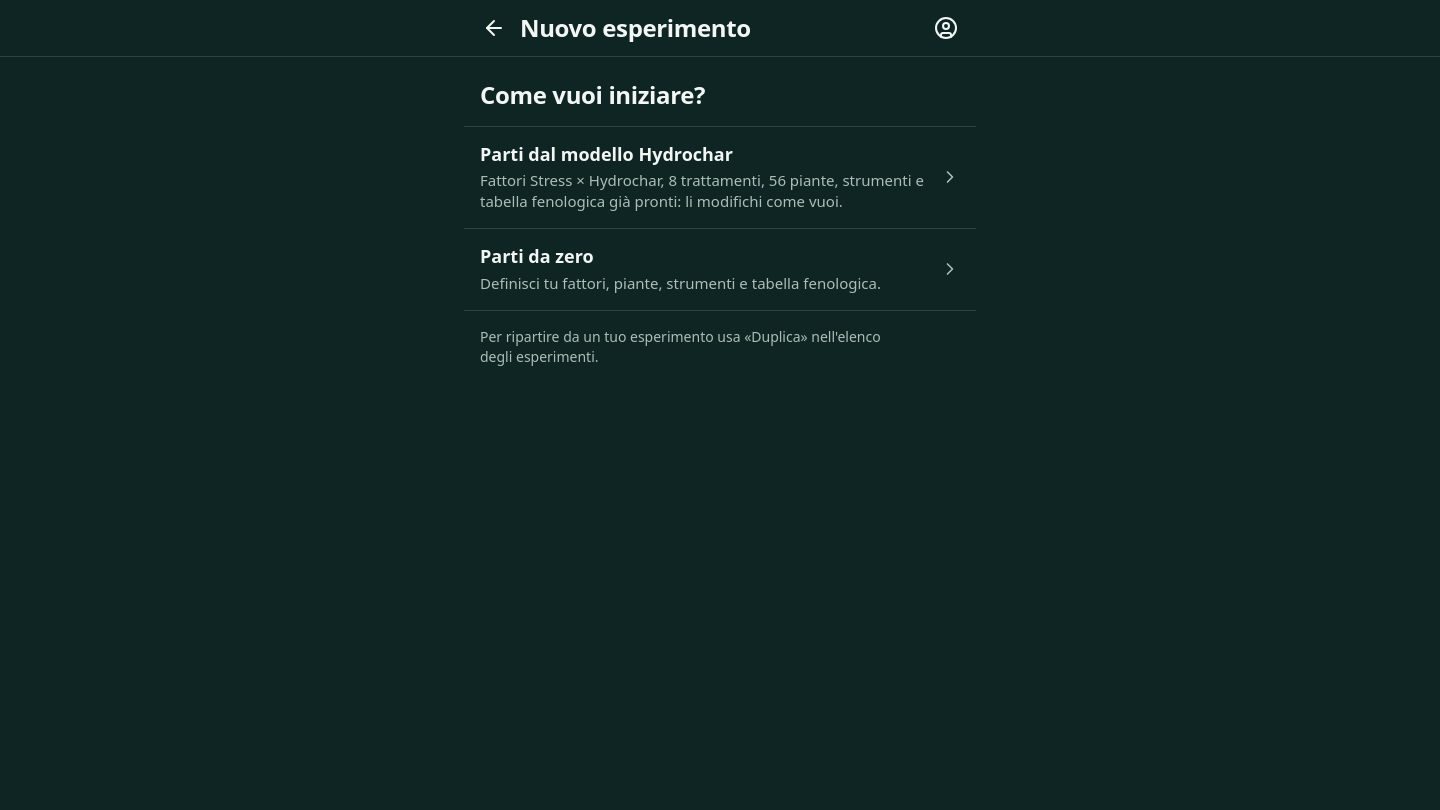
Test case: NuovoEsperimento: inizio › senza modello chiede come iniziare; "Parti da zero" apre i dati generali vuoti
Expected: the heading "Nuovo esperimento" is shown, [520, 11, 751, 44]
Expected: the button "Avanti" is not shown
Click the button "Parti da zero": (720, 270) [464, 229, 976, 311]
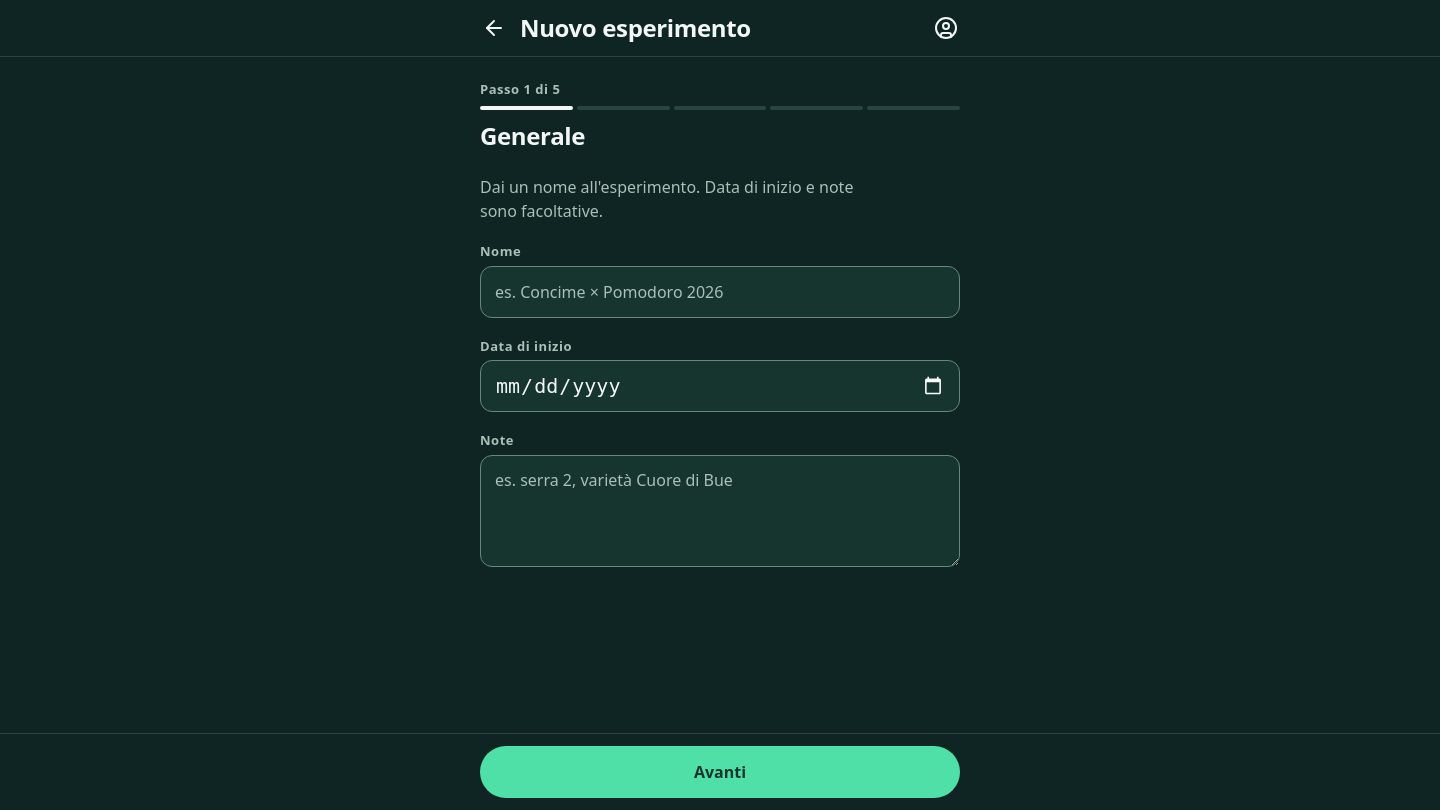
Result: the heading "Generale" is shown at [480, 119, 585, 152]
Result: the text "Passo 1 di 5" is shown at [480, 80, 560, 98]
Result: the field labelled "Nome" is empty at [480, 266, 960, 318]
